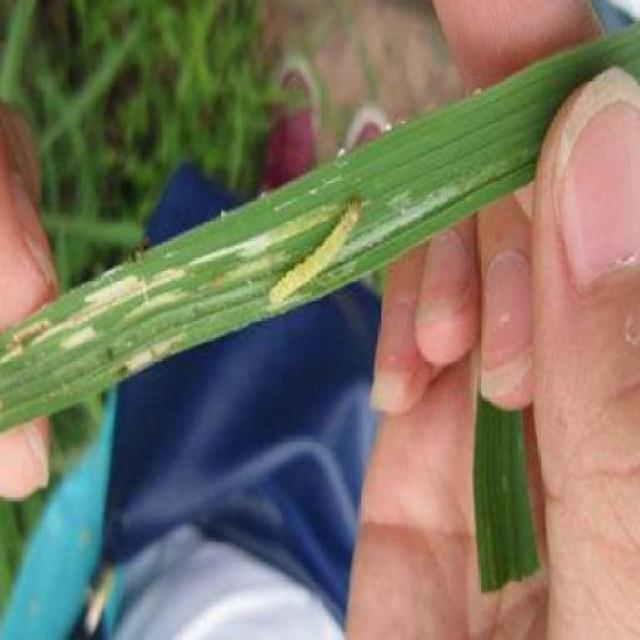leaf-folder: (266, 188, 369, 324)
